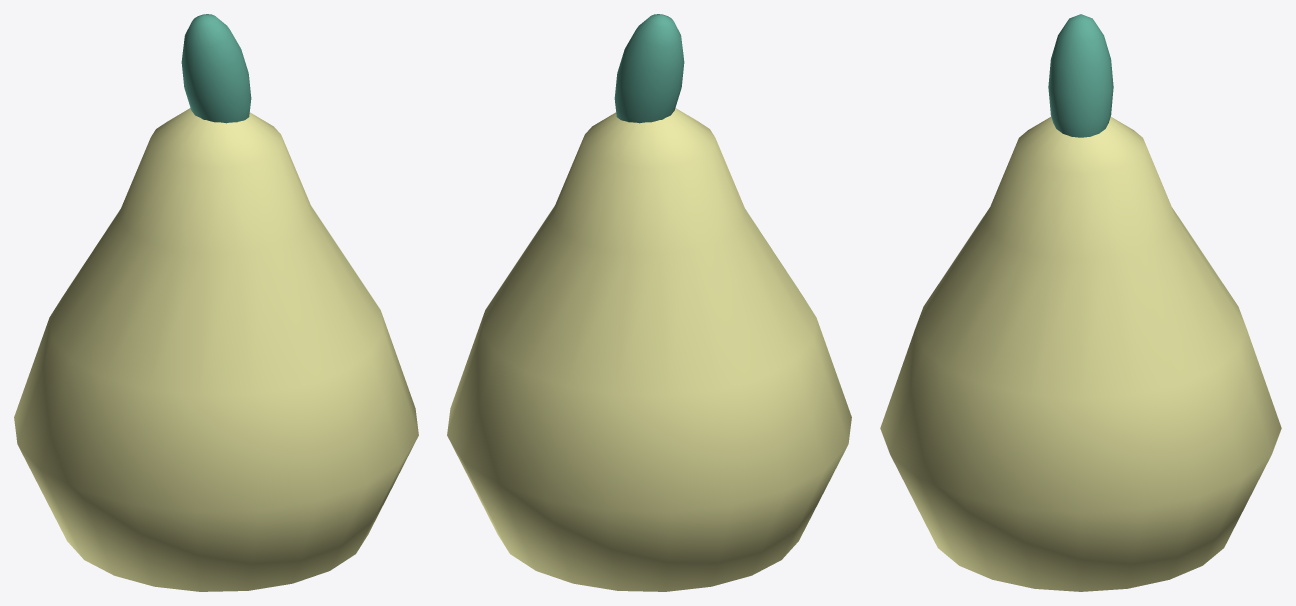
Rendered from pear.glb.
3 renders of one model, left to right at view 1: azimuth 30°, elevation 25°; view 2: azimuth 150°, elevation 25°; view 3: azimuth 270°, elevation 25°, orthographic.
Visible parts, largest first — view 1: pear; view 2: pear; view 3: pear.
Part boxes in pixels (x1,y1,x2,y2): pear: (14,14,418,591); pear: (447,14,851,591); pear: (880,14,1281,591).
Size of the model in its own units: 0.8 by 1.2 by 0.8.
